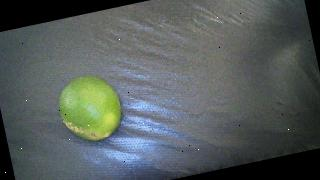DESECHO: (54, 71, 127, 147)
